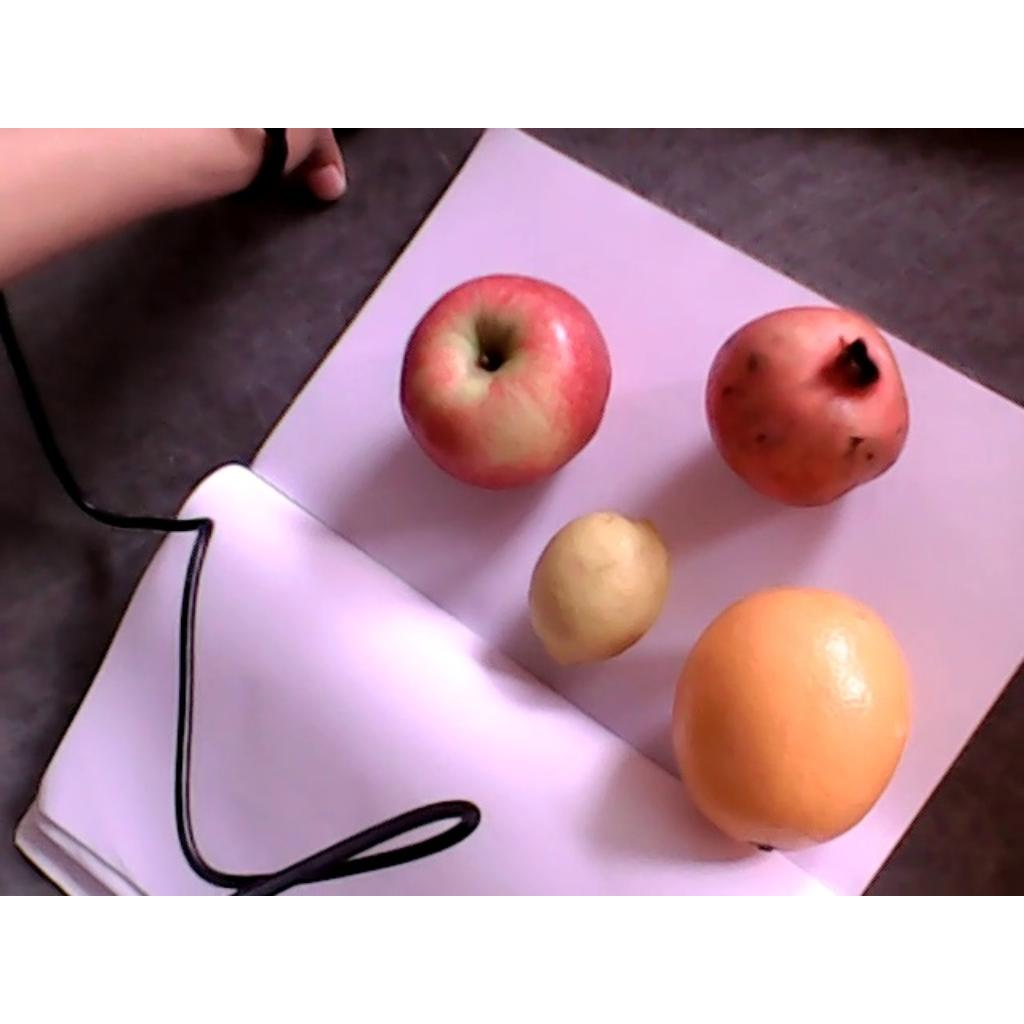apple: (400, 274, 611, 492)
lemon: (525, 511, 670, 671)
orange: (672, 585, 910, 858)
pomegranate: (704, 306, 908, 510)
